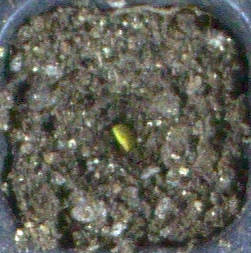pepper seed: (43, 47, 179, 200)
